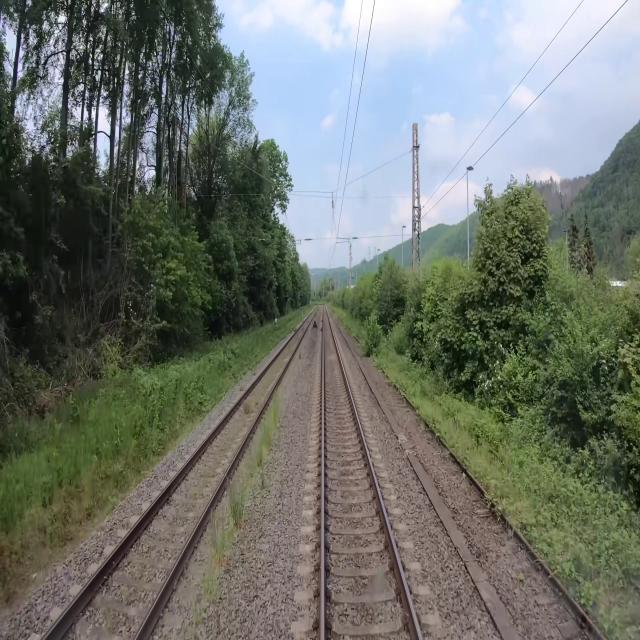Plant: (252, 398, 280, 468), (207, 509, 232, 568), (226, 481, 248, 526), (202, 576, 222, 602)
